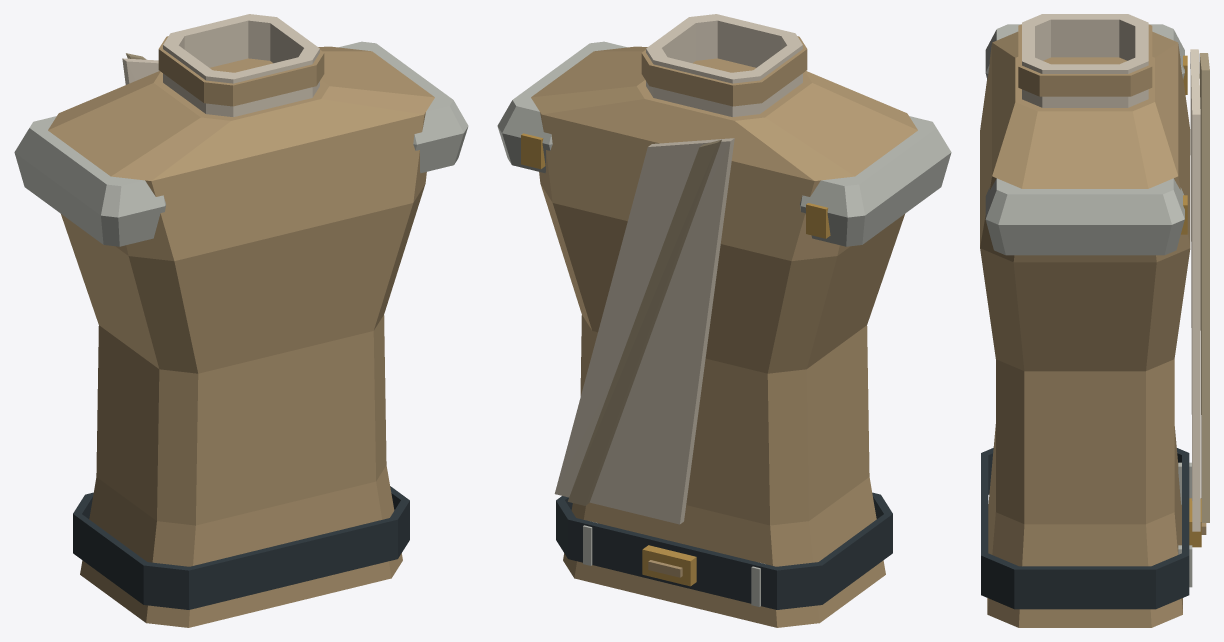
3 renders of one model, left to right at view 1: azimuth 30°, elevation 25°; view 2: azimuth 150°, elevation 25°; view 3: azimuth 270°, elevation 25°, orthographic.
Parts seen in each view (by area): view 1: 现有程序躯干 · 同用途配色; view 2: 现有程序躯干 · 同用途配色; view 3: 现有程序躯干 · 同用途配色.
Boxes of the visible parts, x1=… form: 现有程序躯干 · 同用途配色: x1=14, y1=14, x2=468, y2=627; 现有程序躯干 · 同用途配色: x1=497, y1=14, x2=951, y2=627; 现有程序躯干 · 同用途配色: x1=980, y1=14, x2=1209, y2=627.
Bounding box in the file's own units: 0.458 × 0.62 × 0.247.
6 materials, 6 textured.
